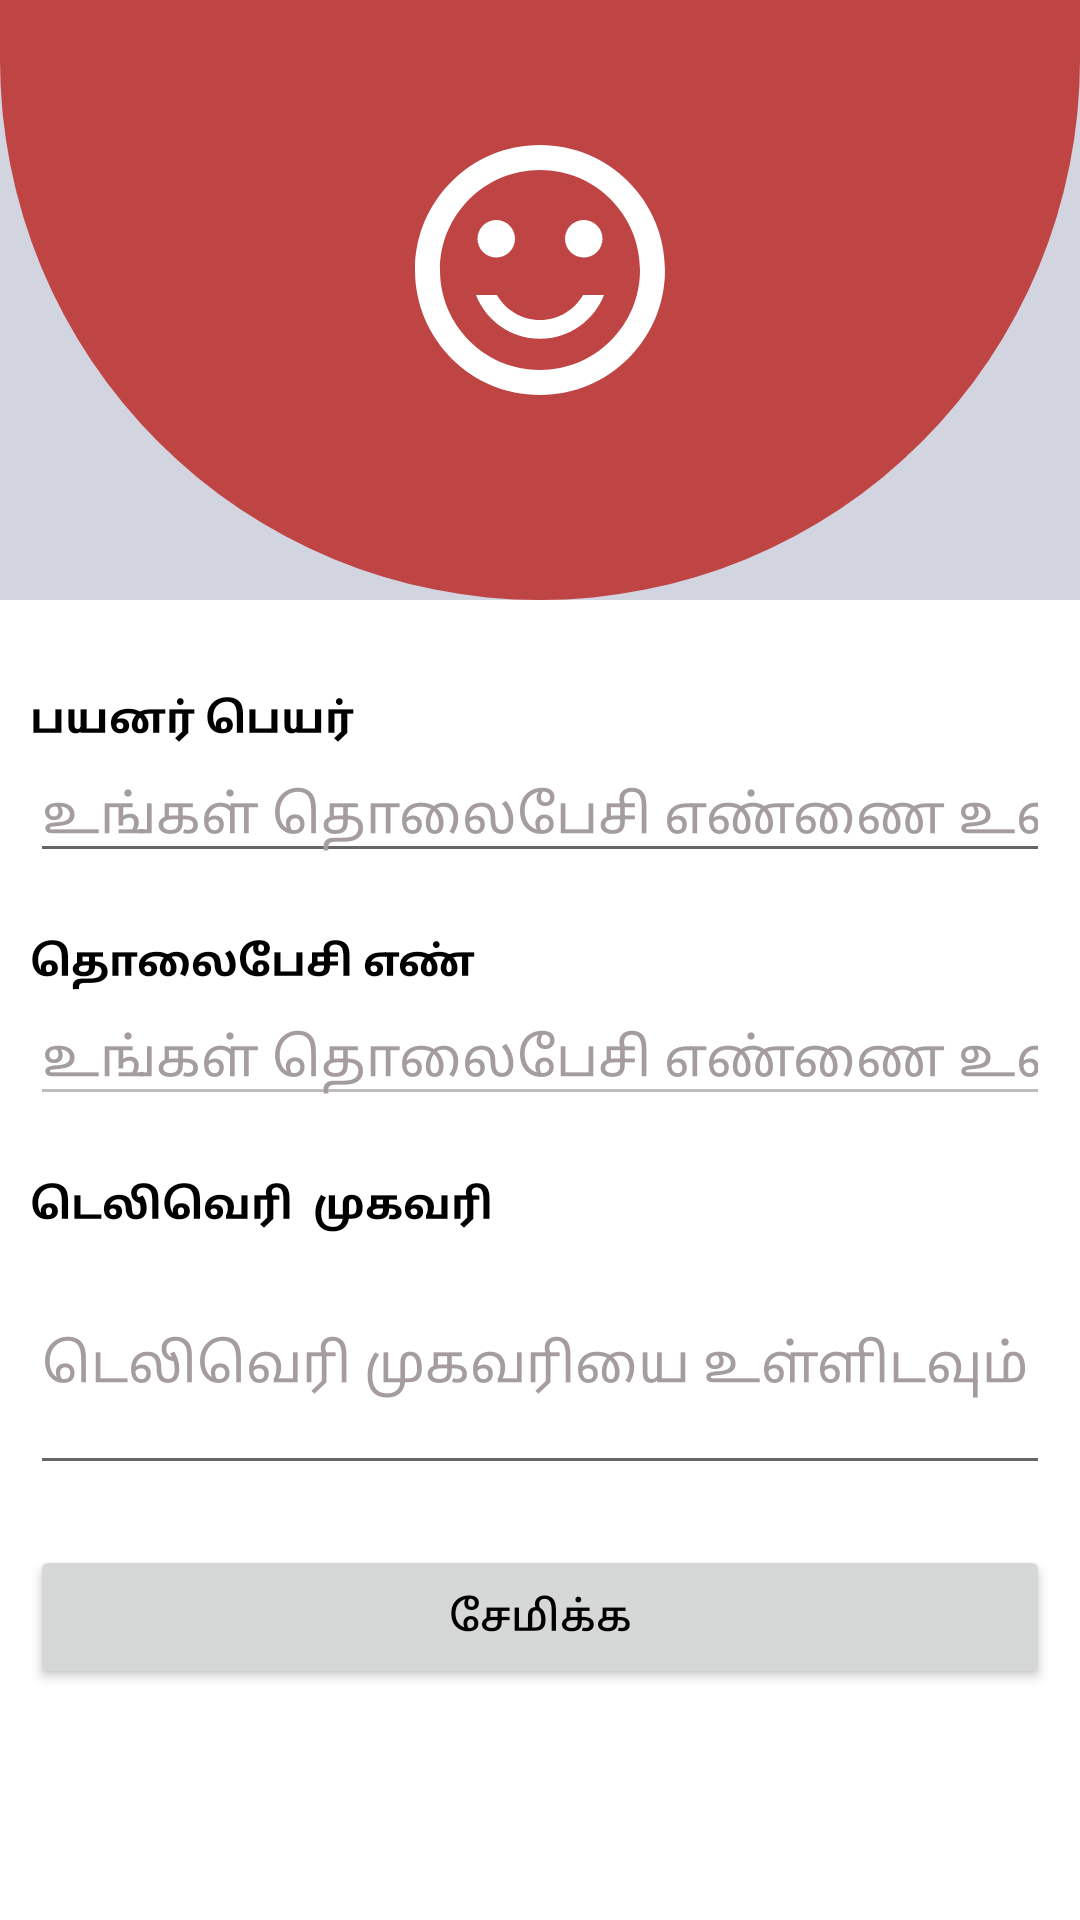

Named icons in this screenshot (1080px x 1920px) and their bounding boxes, bbox=[x1, y1, x2, y2]:
face: bbox=[415, 145, 665, 395]
